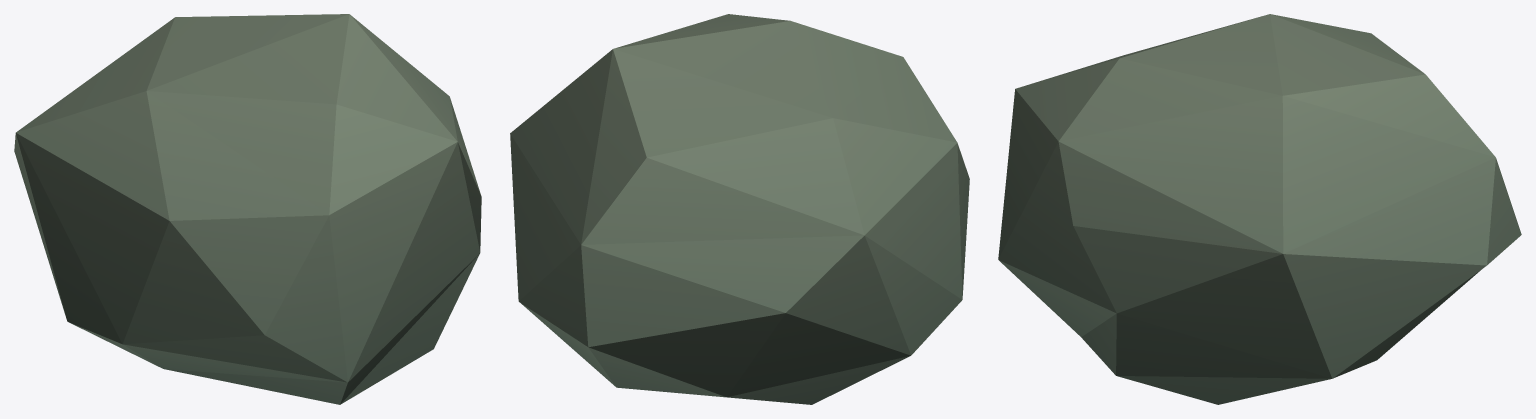
File: Rock_Small_5.fbx
3 views of the same model, side by side, from view 1: azimuth 30°, elevation 25°; view 2: azimuth 150°, elevation 25°; view 3: azimuth 270°, elevation 25° (orthographic). The views are drawn at different scales.
Visible parts, largest first — view 1: Rock_Small_5; view 2: Rock_Small_5; view 3: Rock_Small_5.
Boxes of the visible parts, x1=… form: Rock_Small_5: x1=14, y1=14, x2=481, y2=404; Rock_Small_5: x1=510, y1=14, x2=969, y2=404; Rock_Small_5: x1=998, y1=14, x2=1521, y2=404.
Size of the model in its own units: 103 by 78.32 by 118.
